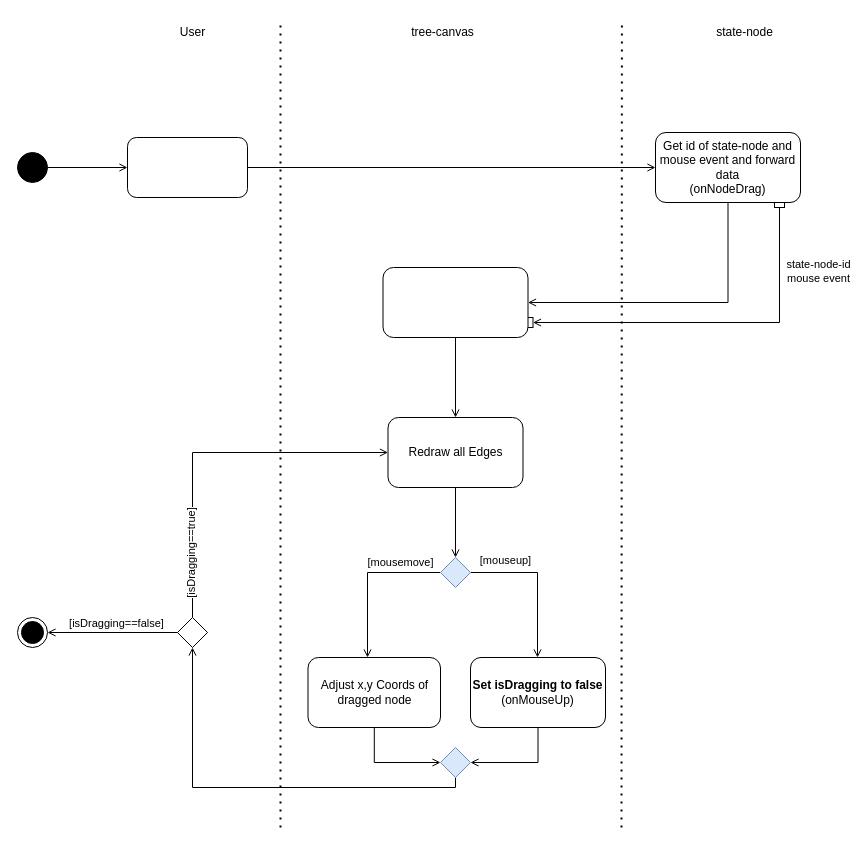
Some shapes in this 867 by 846 pixel diagram are drawn without their labels. Each missing label, with the box of its shape:
Clicks (mousedown) on rectangle of state-node: (126, 136, 248, 198)
Save dragged node in draggedNode Set isDragging to true. (handleNodeDrag): (382, 266, 528, 338)
